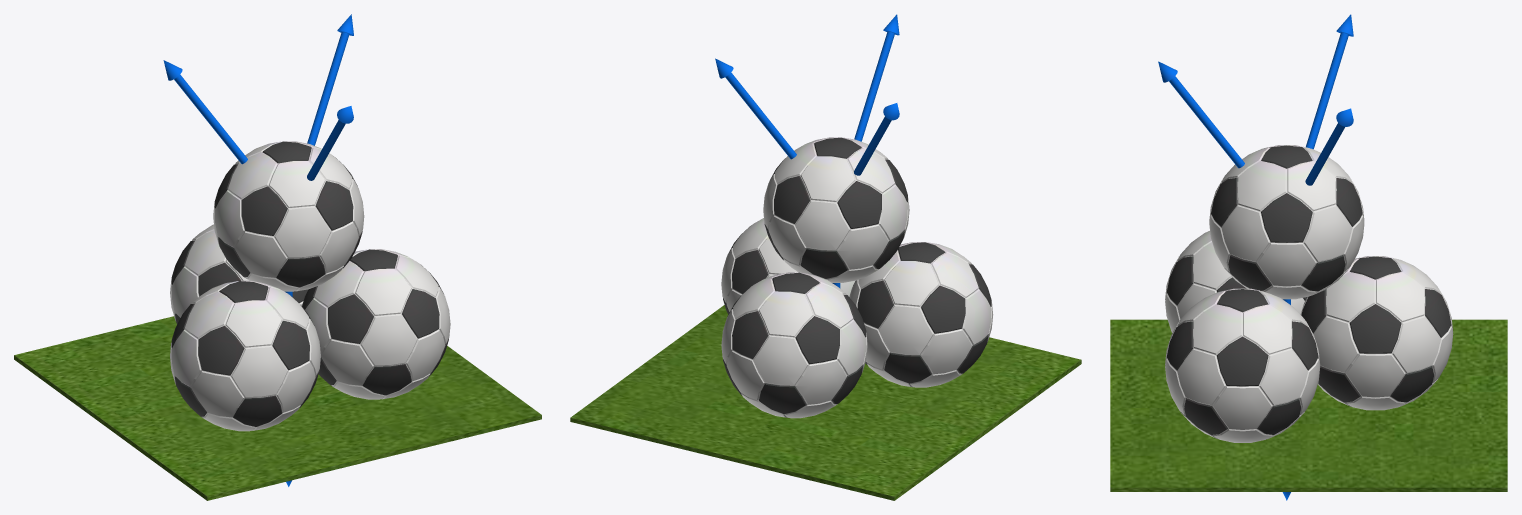
Rendered from zuqiu01.gltf.
The picture shows the model from 3 angles, left to right: view 1: azimuth 30°, elevation 25°; view 2: azimuth 150°, elevation 25°; view 3: azimuth 270°, elevation 25°; orthographic projection. The views are drawn at different scales.
Parts seen in each view (by area): view 1: 对象009, Line006; view 2: 对象009, Line006; view 3: 对象009, Line006.
Part boxes in pixels (<box>): 对象009: <box>14,141,541,500</box>; Line006: <box>163,14,353,486</box>; 对象009: <box>570,137,1081,500</box>; Line006: <box>715,14,899,288</box>; 对象009: <box>1110,145,1507,491</box>; Line006: <box>1158,14,1353,500</box>.
Size of the model in its own units: 80 by 97.73 by 80.
Materials: 2 (2 with a texture image).
